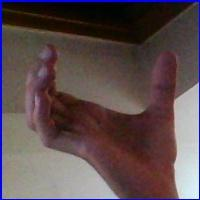space: (16, 37, 187, 176)
